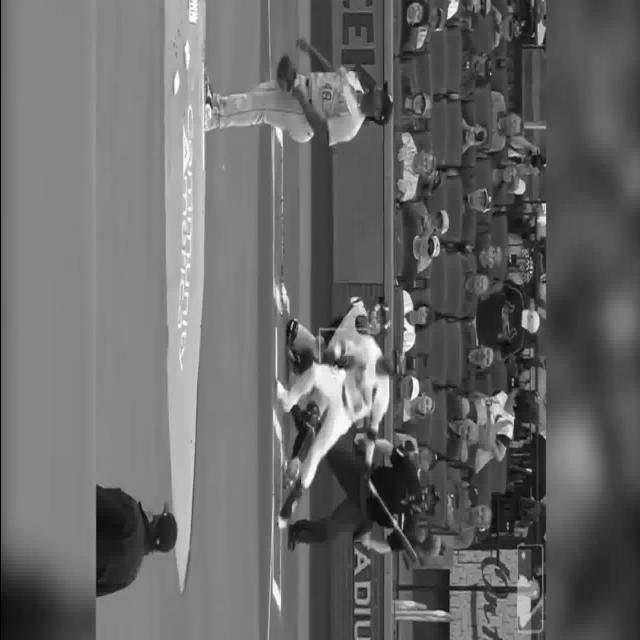base: (272, 328, 278, 388)
baseball_glove: (274, 52, 298, 99)
bat: (363, 484, 415, 566)
shoe: (276, 482, 302, 536), (279, 453, 300, 489), (200, 78, 212, 134), (275, 380, 291, 412)
